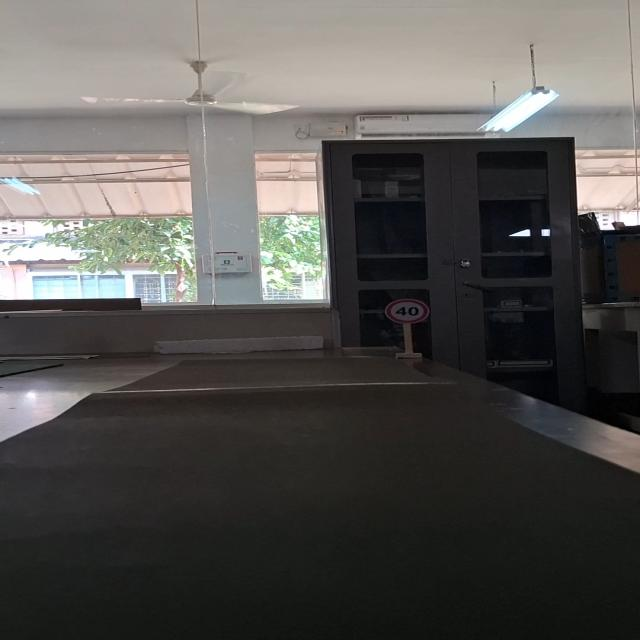Speed40: (383, 298, 430, 325)
